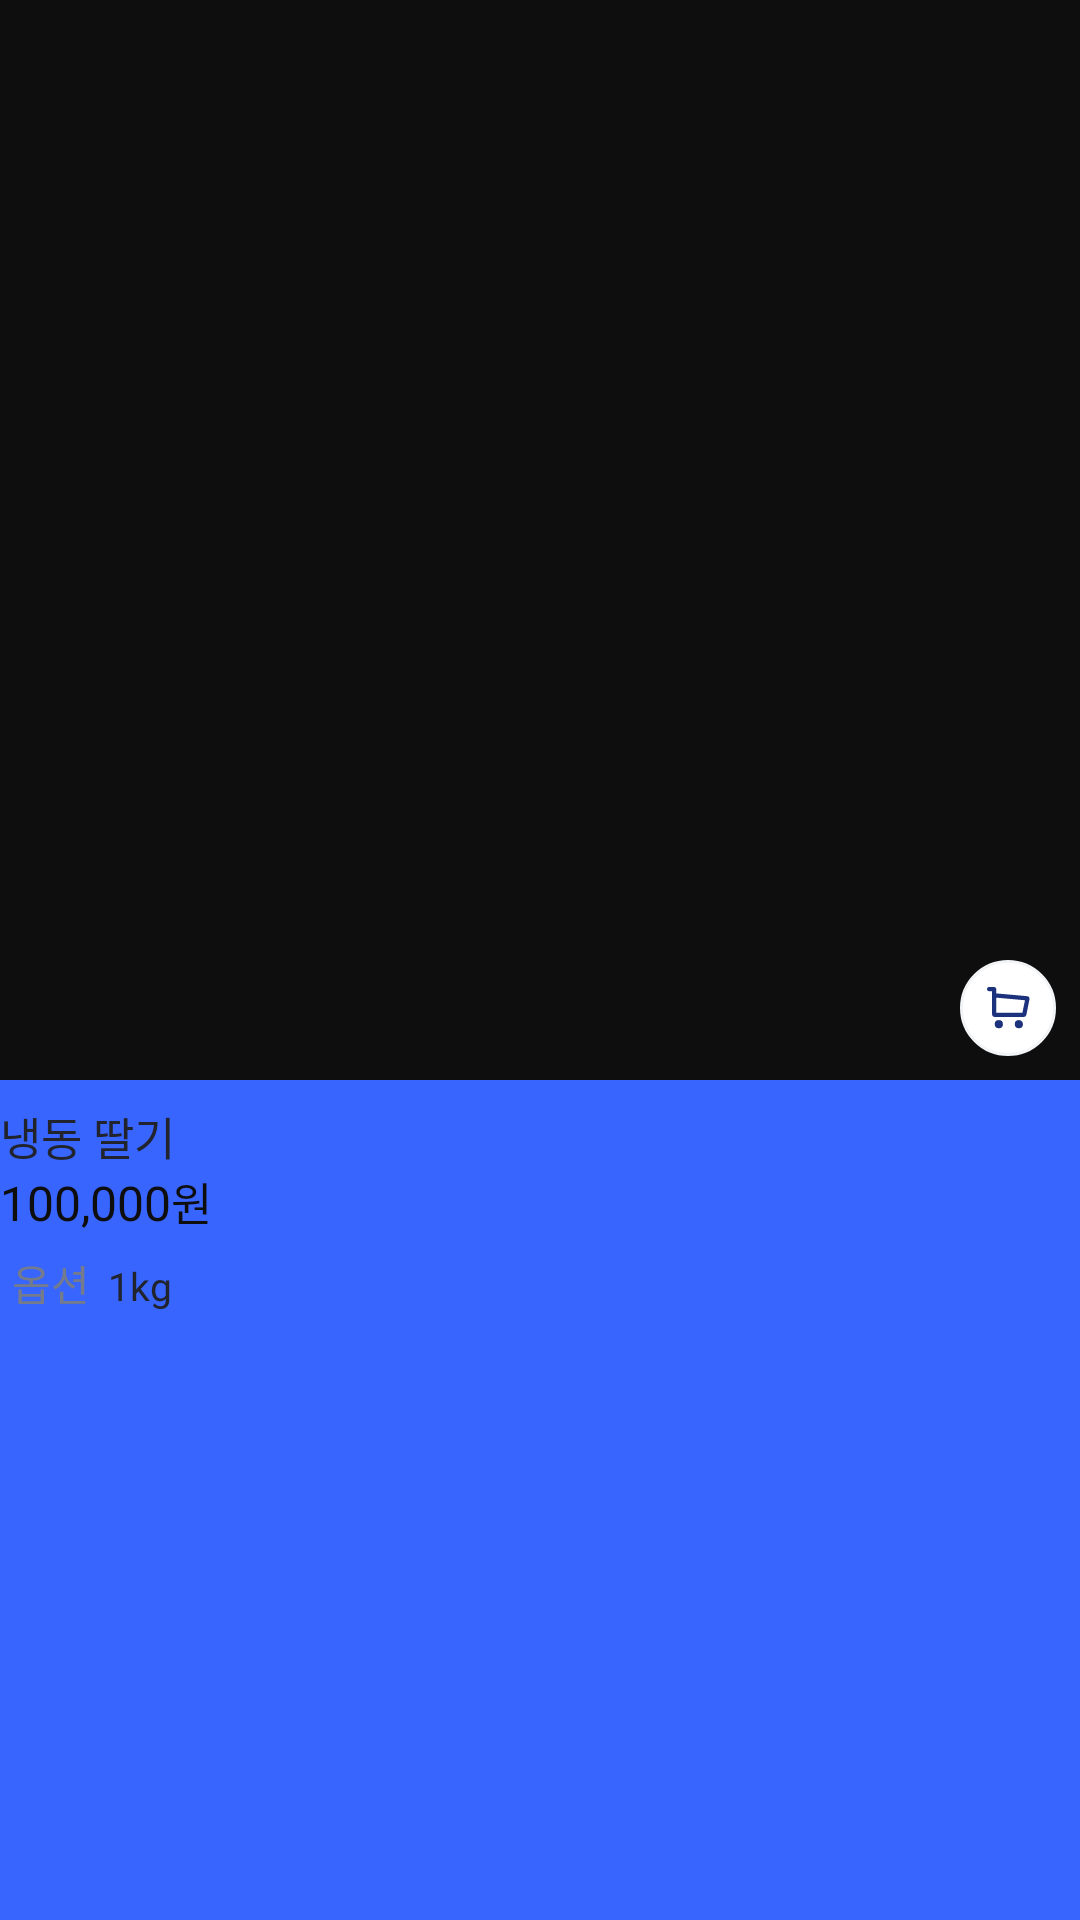

Locate icon controls on the screen. Image size 1080 × 1920, boxes as box=[x1, y1, x2, y2].
cart navy: box=[987, 987, 1030, 1029]
